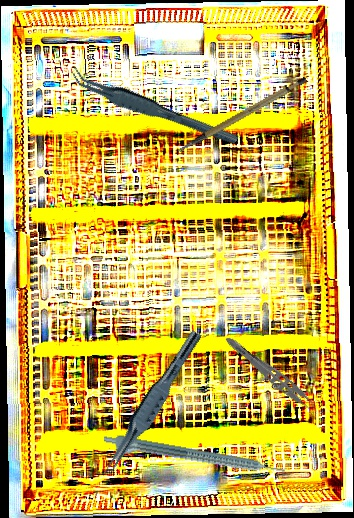Handpiece: (101, 432, 287, 485)
Scalpel Handle: (168, 74, 315, 153)
Tissue Forceps: (66, 52, 240, 164), (100, 325, 203, 481), (218, 333, 324, 420)
